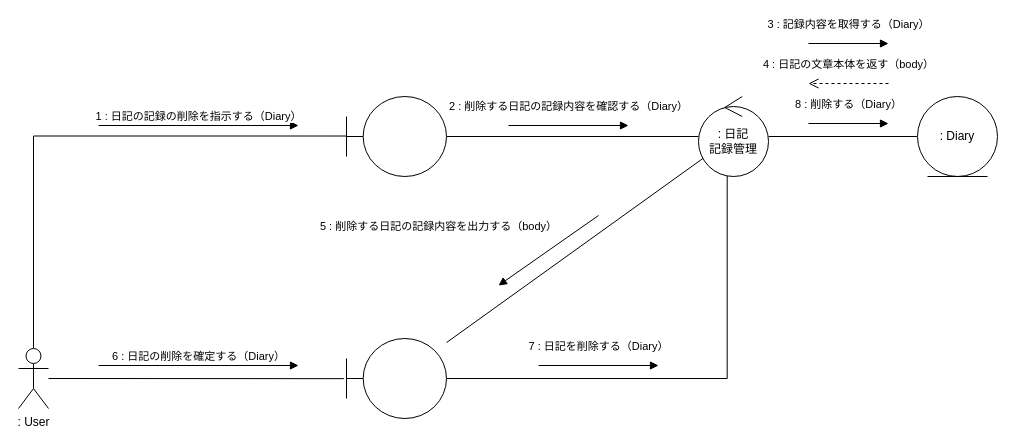
This 1015x446 diagram has some shape labels left out. The centre of each missing label's shape, as x and y in pixels:
": 個別の日記を表示する画面" belongs at [396,136].
": 操作の確認を行う画面" belongs at [396,378].
